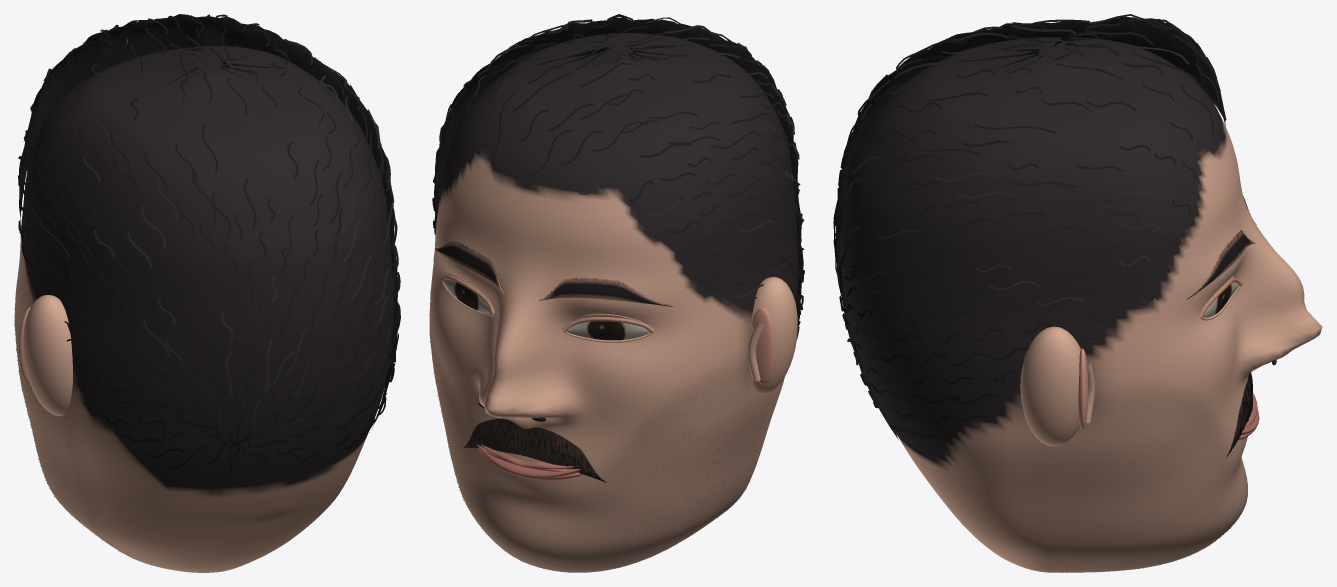
File: ahmad-head.glb
The picture shows the model from 3 angles, left to right: view 1: azimuth 30°, elevation 25°; view 2: azimuth 150°, elevation 25°; view 3: azimuth 270°, elevation 25°; orthographic projection. The views are drawn at different scales.
Parts seen in each view (by area): view 1: Portrait; view 2: Portrait, EyeRight, BrowRight, MouthSmile, BrowLeft, EyeLeft, MouthNeutral; view 3: Portrait, BrowLeft, EyeLeft.
Boxes of the visible parts, left/top/right/bottom form: Portrait: left=14, top=14, right=400, bottom=572; Portrait: left=429, top=14, right=804, bottom=572; EyeRight: left=562, top=313, right=653, bottom=342; BrowRight: left=538, top=277, right=673, bottom=306; MouthSmile: left=476, top=443, right=592, bottom=477; BrowLeft: left=435, top=241, right=503, bottom=292; EyeLeft: left=441, top=274, right=494, bottom=316; MouthNeutral: left=476, top=447, right=583, bottom=480; Portrait: left=833, top=14, right=1322, bottom=572; BrowLeft: left=1186, top=230, right=1256, bottom=299; EyeLeft: left=1199, top=275, right=1242, bottom=320.
Size of the model in its own units: 0.2109 by 0.2864 by 0.2439.
